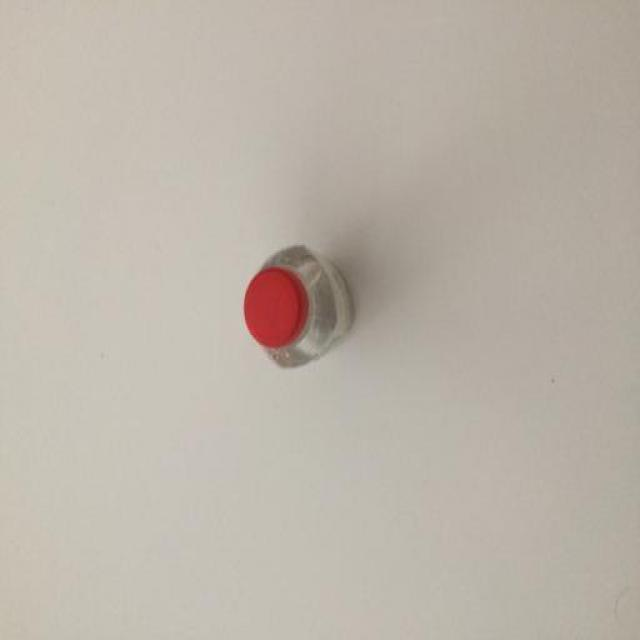plastic_bottle: (242, 249, 362, 360)
